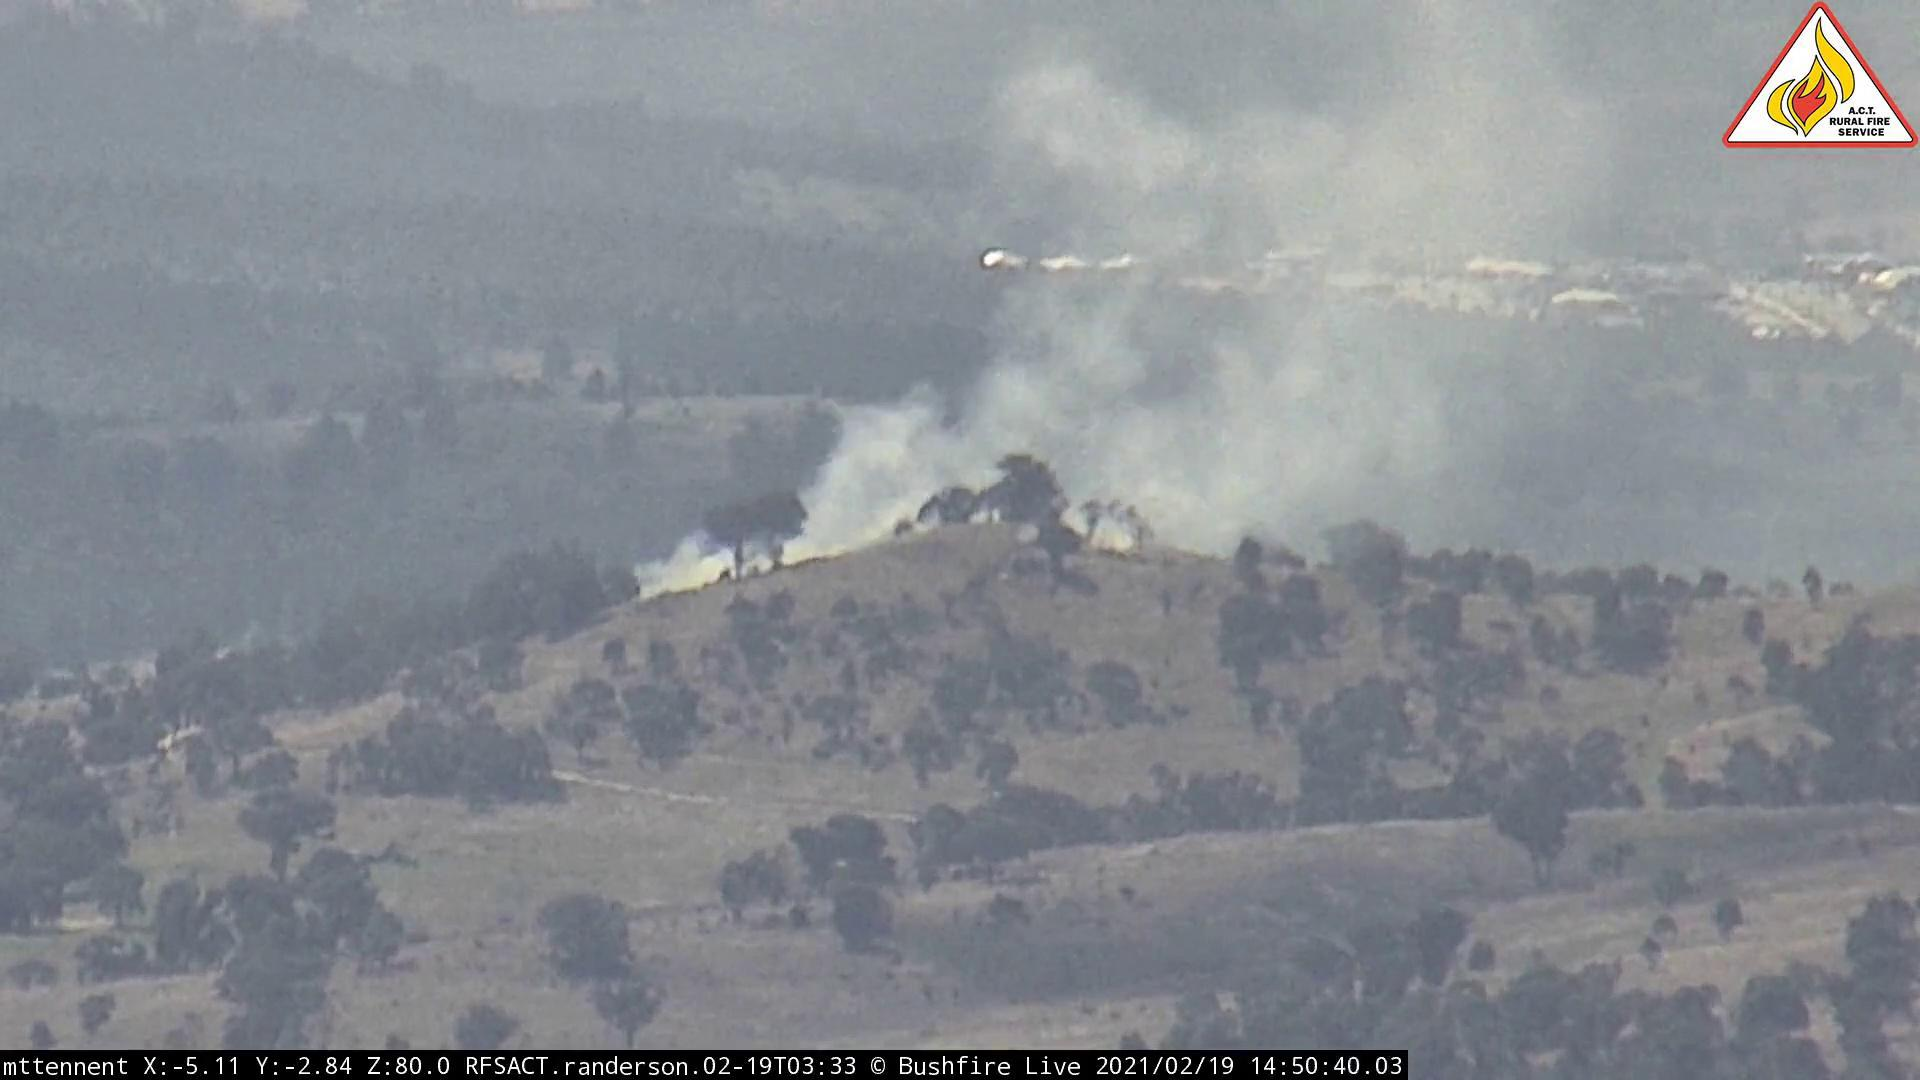Smoke: (615, 25, 1648, 609)
